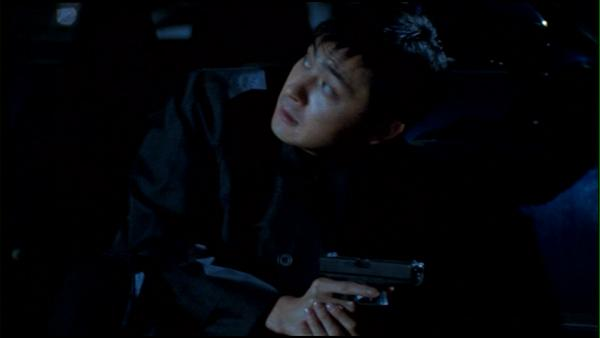Gun: (318, 252, 427, 290)
